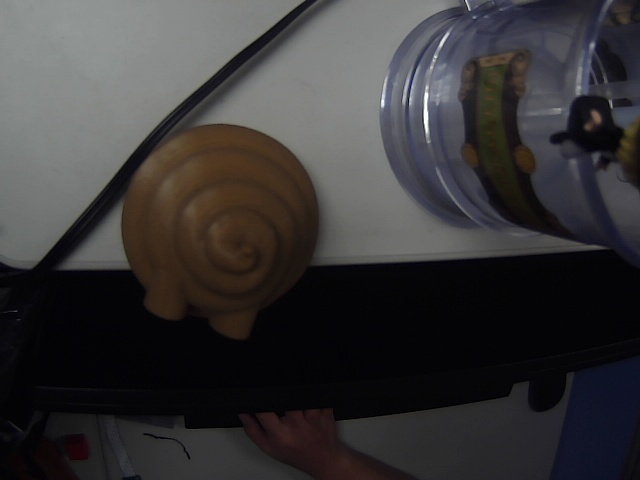shit: (113, 122, 340, 346)
